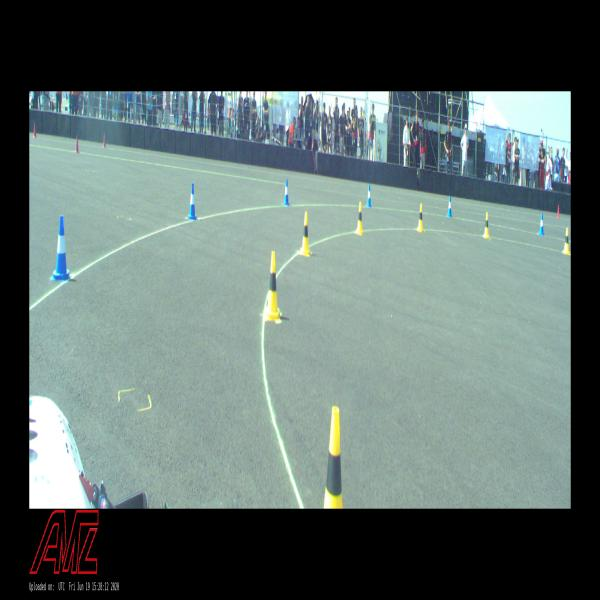blue_cone: (50, 215, 71, 282), (188, 184, 197, 220), (284, 179, 290, 205), (366, 184, 372, 207), (539, 213, 544, 235), (447, 196, 452, 217)
unknown_cone: (75, 135, 79, 153), (33, 122, 37, 138), (103, 132, 106, 148), (557, 205, 560, 218)
yellow_cone: (324, 406, 343, 508), (264, 251, 281, 322), (300, 211, 310, 256), (356, 202, 363, 234), (417, 204, 424, 231), (563, 228, 570, 254), (483, 212, 490, 238)
